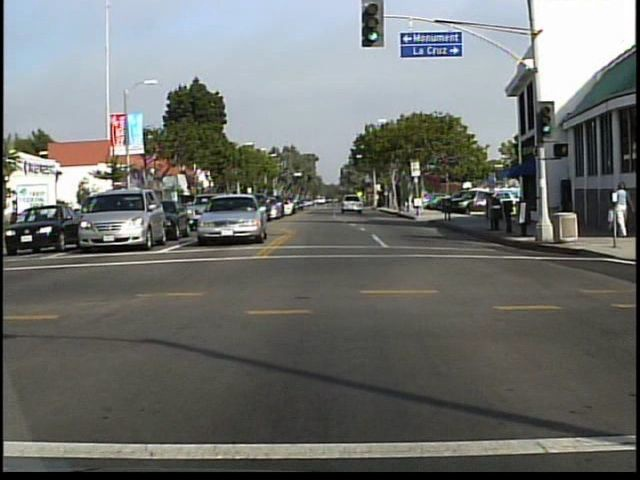person: (608, 176, 636, 242)
